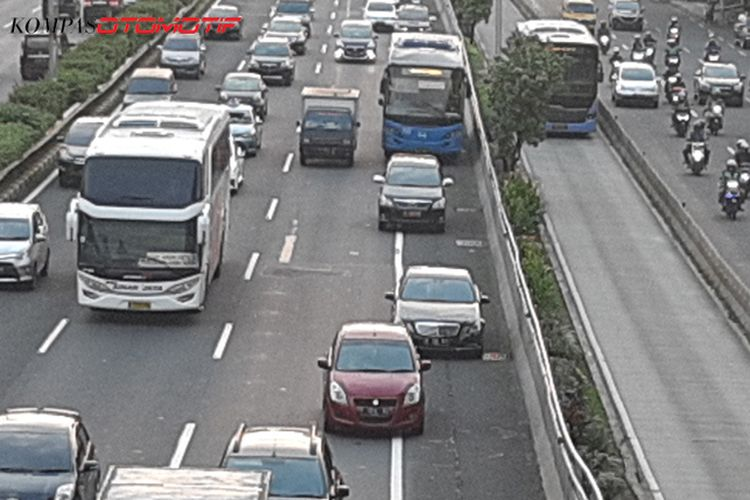car: (78, 101, 232, 311), (327, 325, 427, 439), (515, 18, 599, 140), (388, 30, 462, 165), (219, 423, 345, 500), (1, 406, 98, 500), (394, 264, 482, 362), (382, 151, 445, 236), (302, 86, 358, 168), (1, 199, 50, 290), (57, 115, 109, 183), (21, 35, 73, 89), (124, 68, 179, 116), (695, 57, 744, 109), (218, 101, 260, 155), (249, 37, 296, 85), (614, 60, 659, 107), (163, 30, 207, 76), (223, 72, 267, 115), (337, 21, 376, 62), (204, 5, 241, 37), (562, 2, 598, 30), (610, 3, 645, 31)
motorbike: (684, 118, 713, 180), (719, 162, 742, 221), (732, 137, 750, 200), (672, 91, 692, 141), (706, 88, 726, 138), (599, 20, 614, 57), (666, 41, 681, 73), (704, 35, 720, 63), (667, 16, 681, 46), (631, 34, 645, 64), (644, 33, 656, 62), (611, 48, 622, 79)
